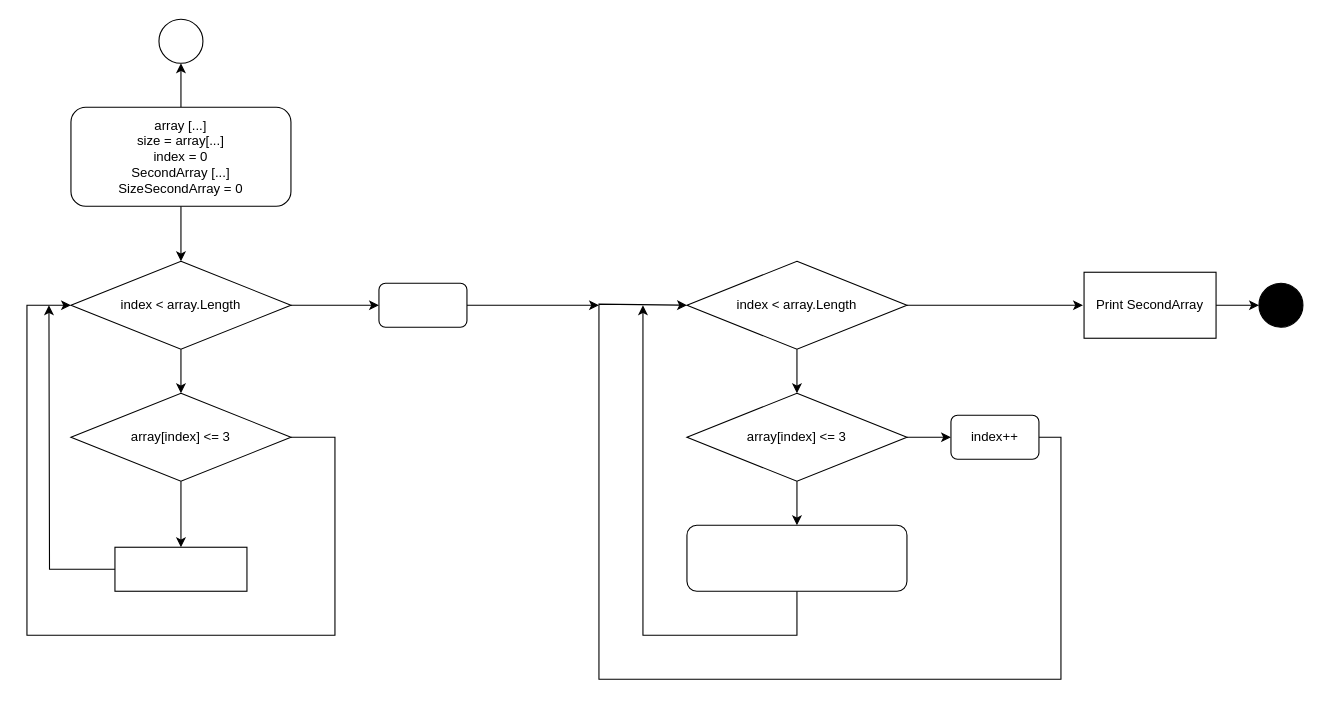
Some shapes in this 1322 by 707 pixel diagram are drawn without their labels. The shapes that lost their labels are listed below. From the top down, each one's box as (x1, y1, x2, y2) in pixels, then its label:
(378, 282, 467, 327): index = 0
(114, 546, 247, 591): SizeSecondArray++
(686, 524, 907, 591): array[index] = SecondArray[index] index++
